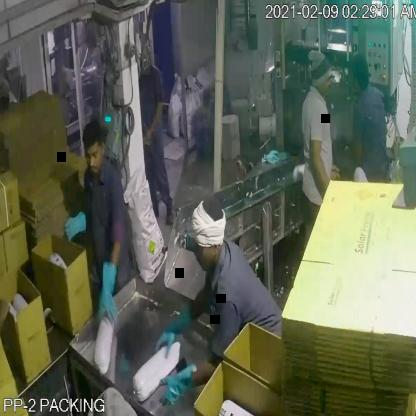glove: (149, 294, 202, 353), (94, 253, 128, 327), (158, 366, 200, 406), (59, 206, 91, 244)
no_glove: (310, 136, 332, 200), (144, 94, 164, 149), (0, 294, 10, 340)
